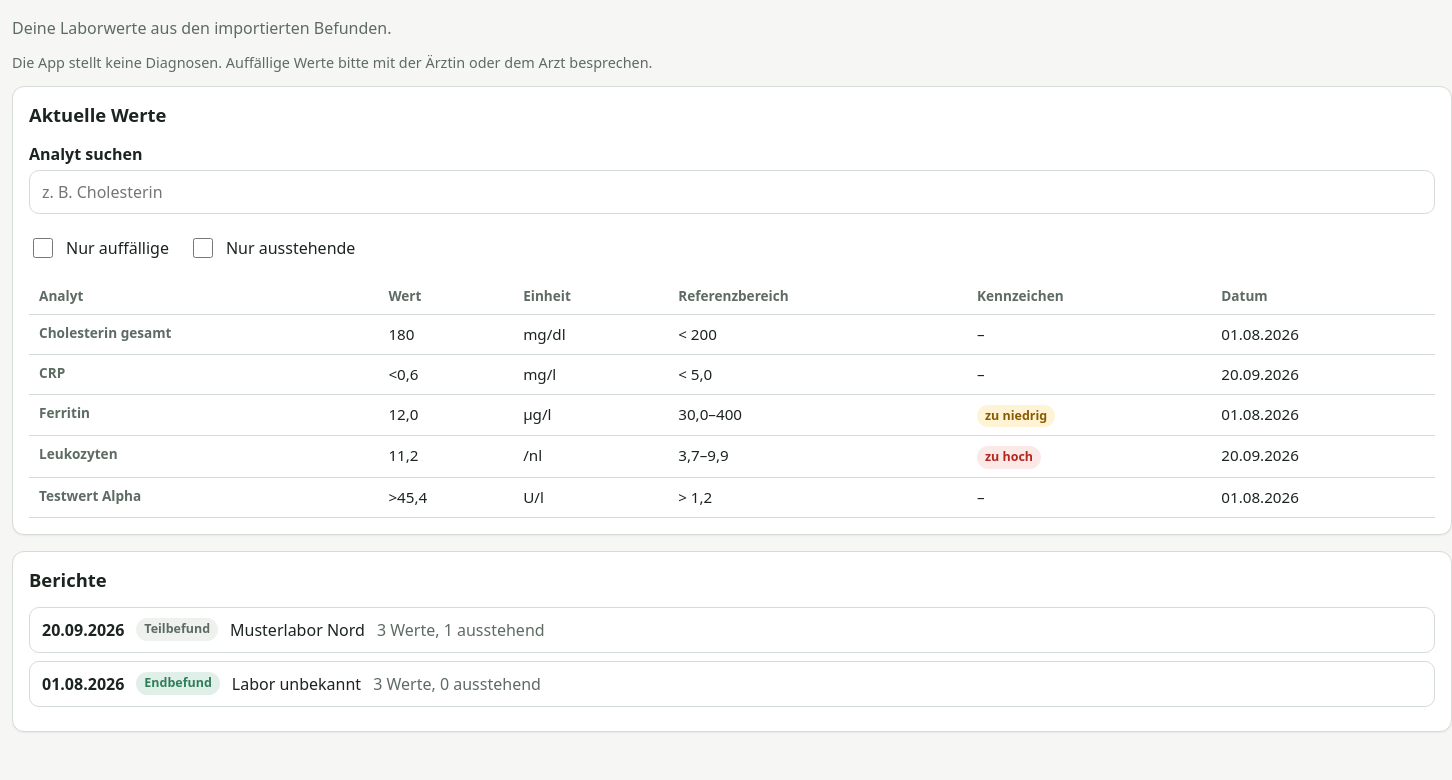
Test: Labor › zeigt Berichte aufklappbar mit ausstehenden Werten
Expected: the heading "Berichte" is shown, [29,568,107,591]
Expected: the text "Teilbefund" is shown, [136,618,218,641]
What coordinates should you click on to do the following:
click the text "Musterlabor Nord"
I would click on:
 (297, 630)
Its box is [230,618,365,642].
(page scrolled)
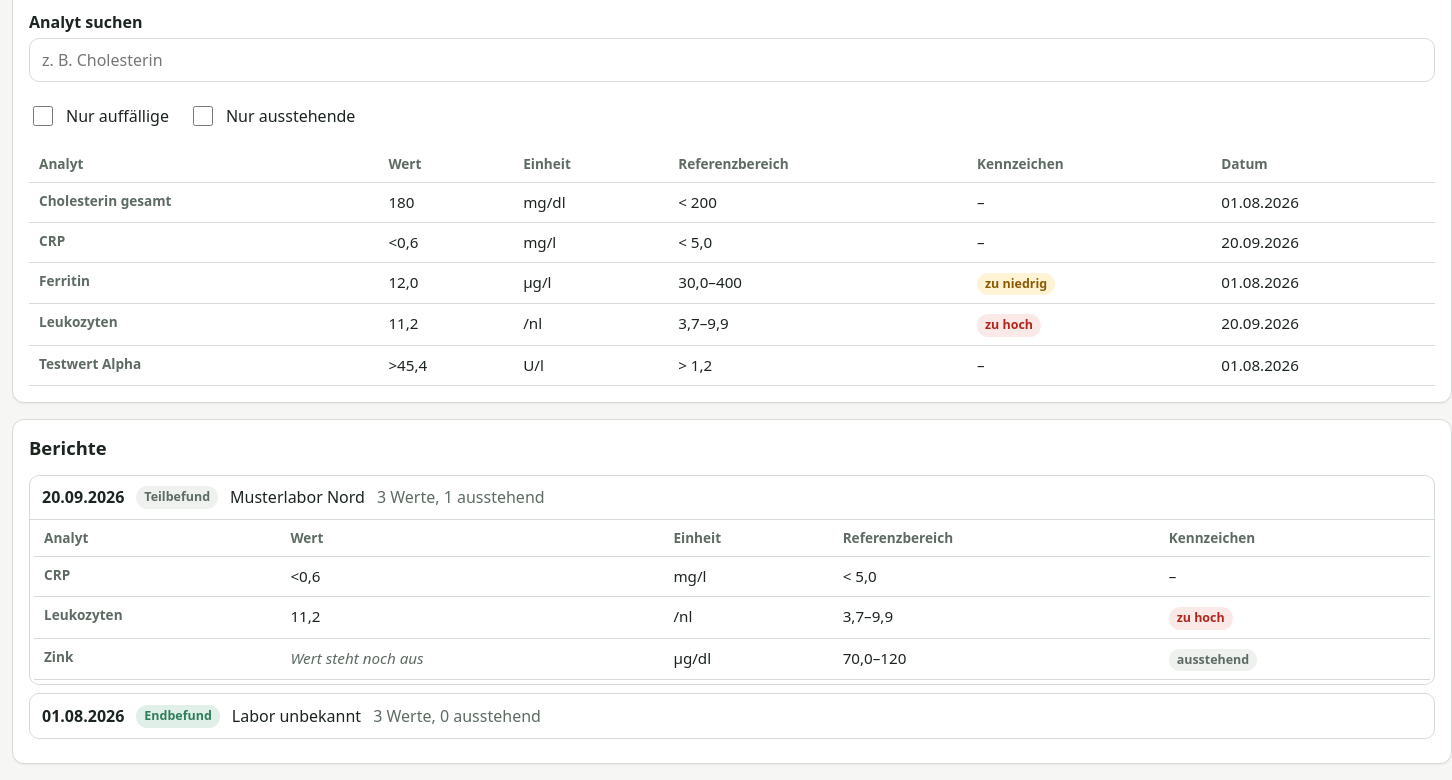
Expected: the text "Endbefund" is shown, [136,705,220,728]
Now the row "Zink Wert steht noch aus µg/dl 70,0–120 ausstehend" is shown, box [34,638,1430,680]
